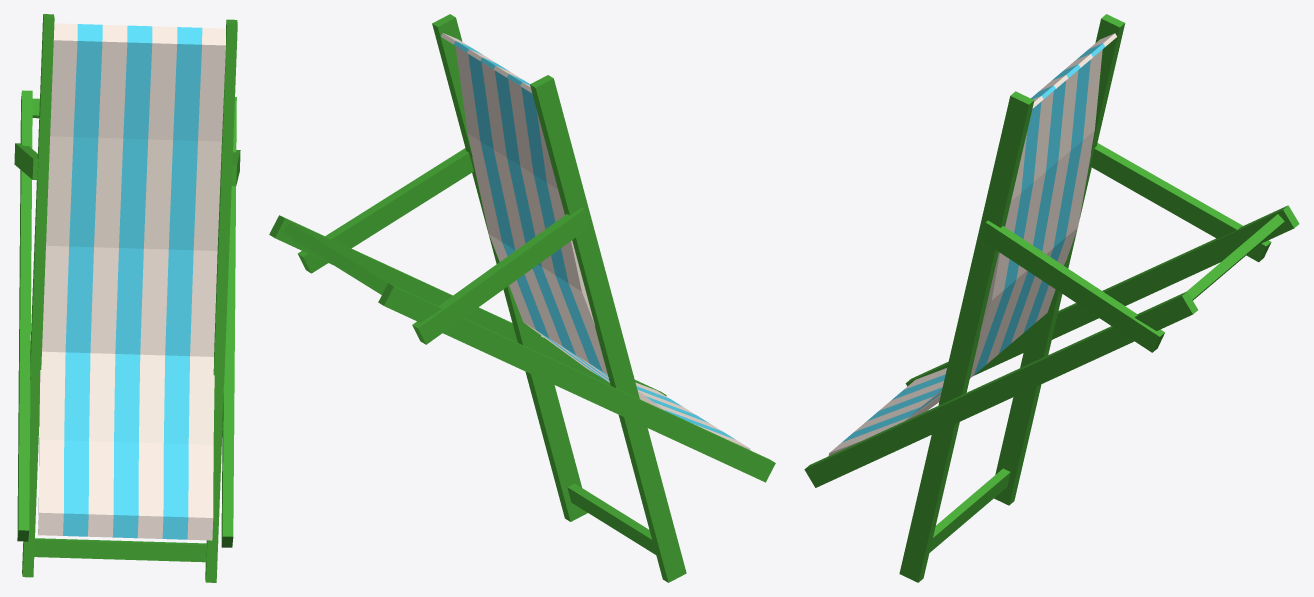
The model's file is 013_Lounger.fbx.
3 renders of one model, left to right at view 1: azimuth 30°, elevation 25°; view 2: azimuth 150°, elevation 25°; view 3: azimuth 270°, elevation 25°, orthographic. The views are drawn at different scales.
Parts seen in each view (by area): view 1: LOUNGER; view 2: LOUNGER; view 3: LOUNGER.
Part boxes in pixels (<box>): LOUNGER: <box>14,14,240,582</box>; LOUNGER: <box>269,14,775,582</box>; LOUNGER: <box>804,14,1299,582</box>.
Size of the model in its own units: 74.08 by 103 by 87.1.
